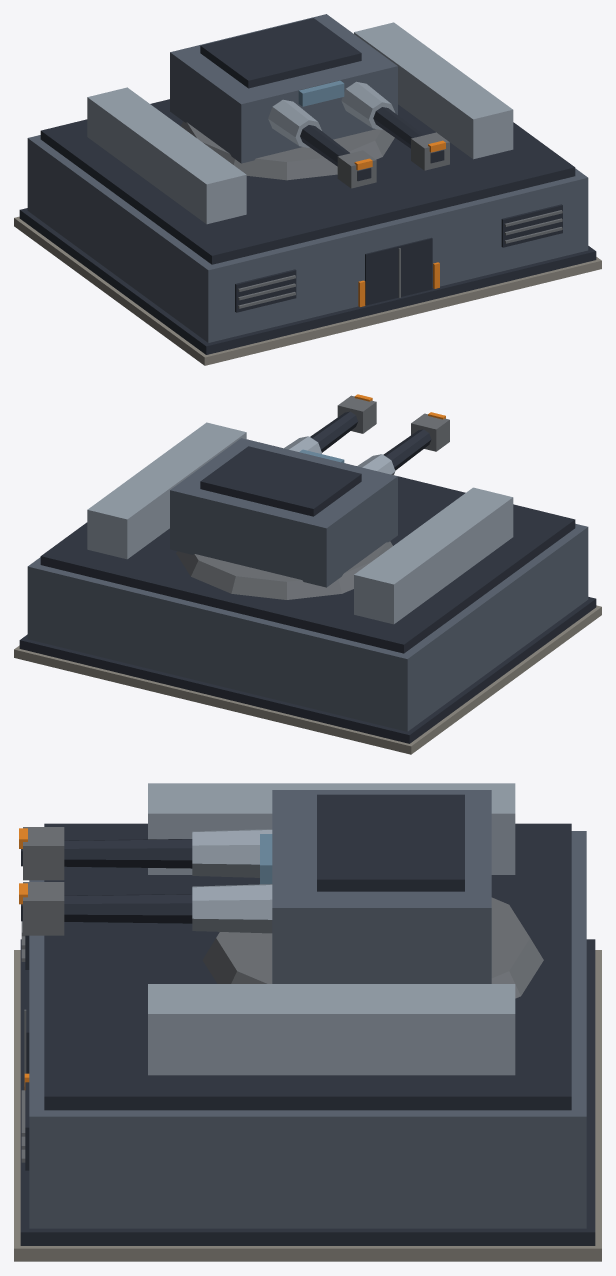
The model's file is installation-battery.glb.
3 renders of one model, top to bottom at view 1: azimuth 30°, elevation 25°; view 2: azimuth 150°, elevation 25°; view 3: azimuth 270°, elevation 25°, orthographic. The views are drawn at different scales.
Visible parts, largest first — view 1: installation_battery; view 2: installation_battery; view 3: installation_battery.
Boxes of the visible parts, bbox=[...] form: installation_battery: bbox=[14, 14, 601, 365]; installation_battery: bbox=[14, 394, 601, 754]; installation_battery: bbox=[14, 783, 601, 1261].
Size of the model in its own units: 11.92 by 5.12 by 9.92.
